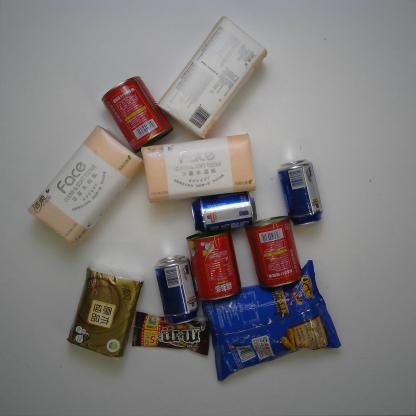Alcohol: (153, 254, 200, 326), (277, 158, 324, 227), (191, 190, 258, 234)
Canned Food: (100, 74, 174, 154), (244, 212, 304, 289), (185, 228, 242, 302)
Chocolate: (132, 310, 212, 356)
Puffed Food: (201, 258, 342, 382)
Tissue: (26, 125, 146, 246), (155, 15, 270, 140), (141, 132, 258, 204), (66, 263, 146, 360)
